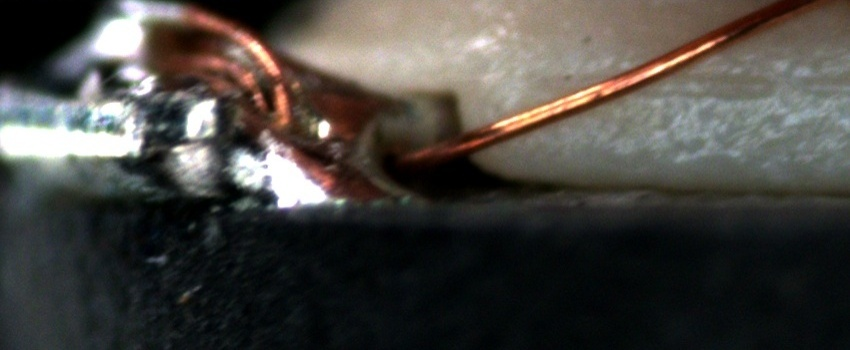DL: (556, 56, 850, 117)
TE: (145, 3, 302, 134)
